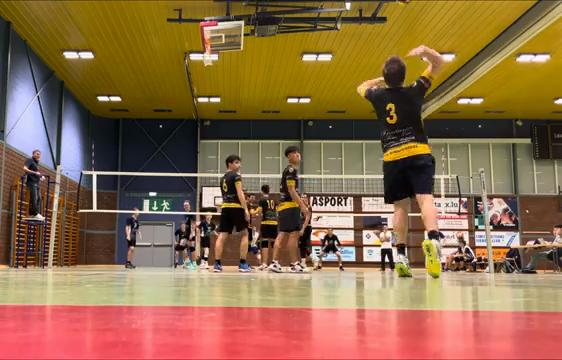Player: (269, 146, 307, 272), (213, 155, 249, 271), (256, 184, 277, 270), (298, 194, 316, 269), (314, 229, 343, 270), (125, 207, 141, 268), (246, 194, 260, 263), (198, 215, 215, 269), (183, 200, 196, 269), (174, 222, 188, 267)
Serve: (351, 43, 451, 281)
